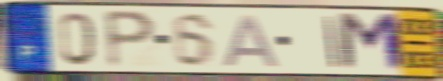0: (57, 11, 97, 67)
6: (169, 12, 218, 68)
A: (220, 13, 283, 69)
I: (322, 14, 341, 70)
M: (335, 11, 409, 74)
P: (102, 8, 159, 71)
